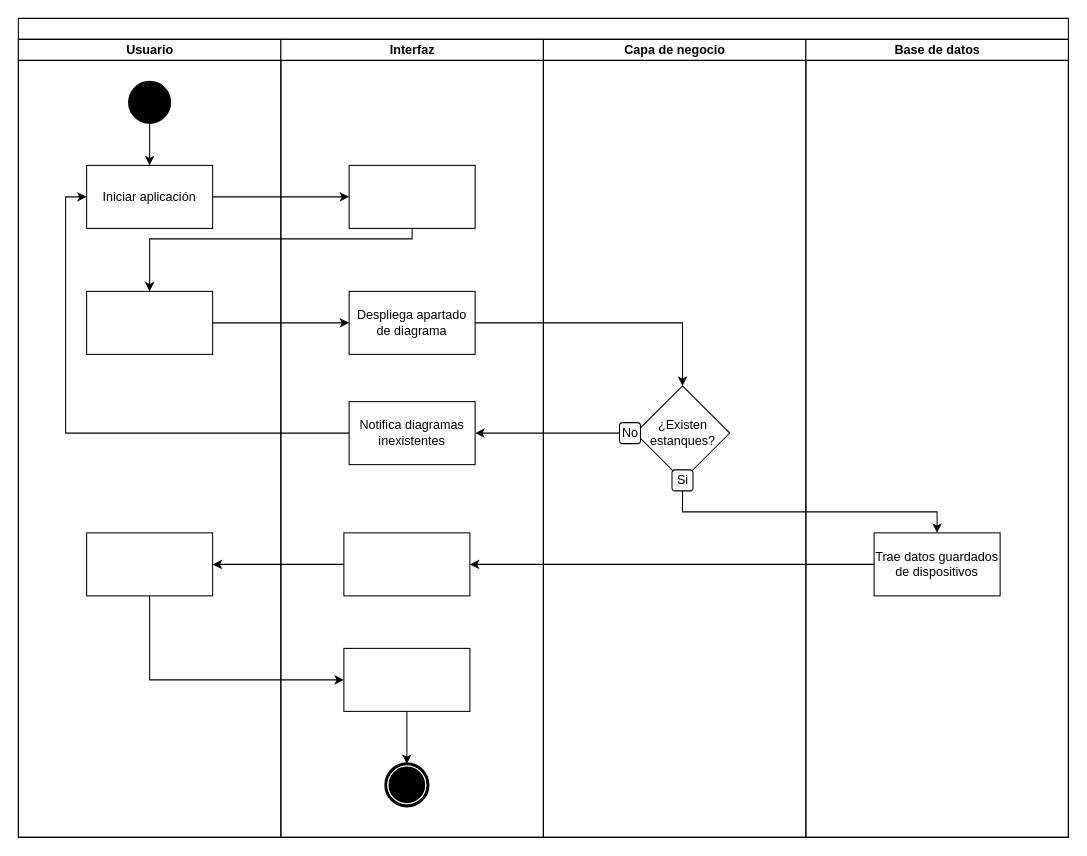
The diagram is 1087 pixels wide and 856 high, and some of its shapes have lost their labels. Here are the shapes that lost their labels. From the top down, the centre of each, then its label:
(411,196): Despliega apartado Menú principal
(149,322): Seleccionar diagramas
(149,564): Selecciona un estanque
(406,564): Sistema muestra estanques disponibles
(406,679): Muestra la información del estanque
